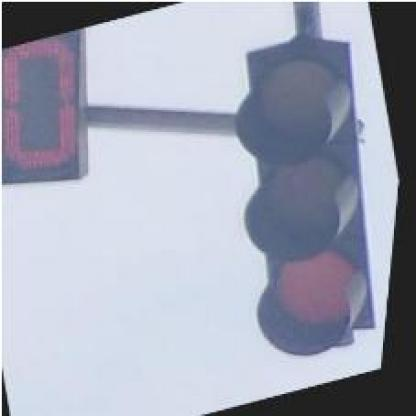red: (189, 25, 412, 367)
